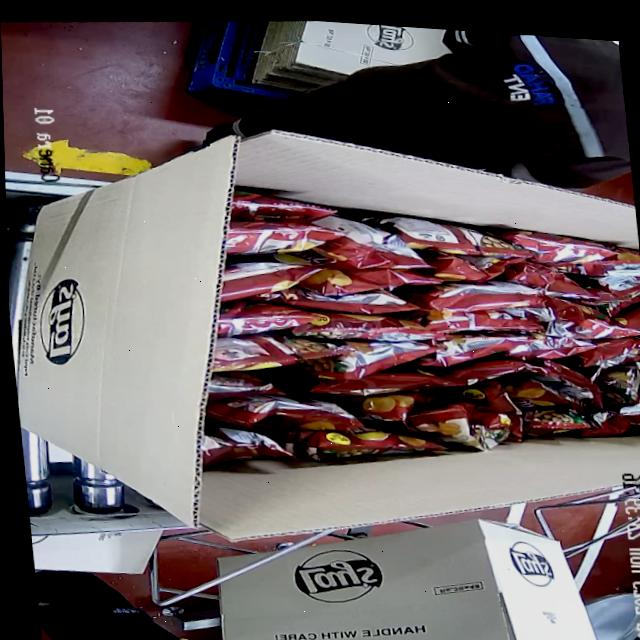MASALA: (178, 175, 640, 505)
